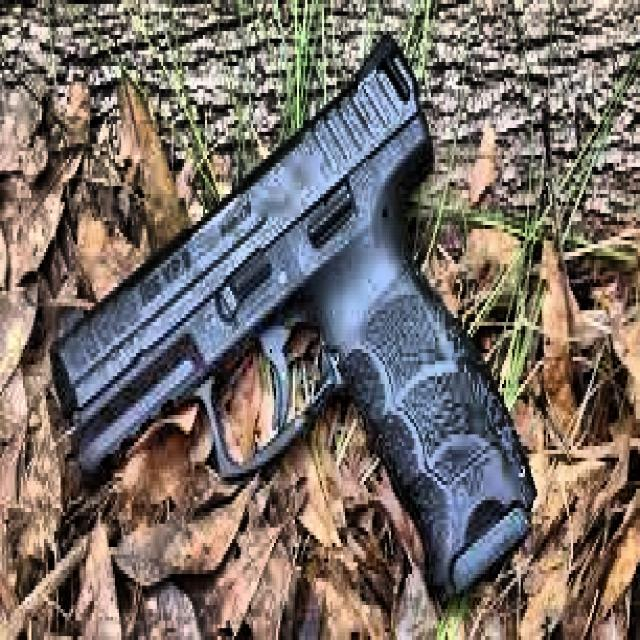HKVP9: (46, 31, 538, 618)
